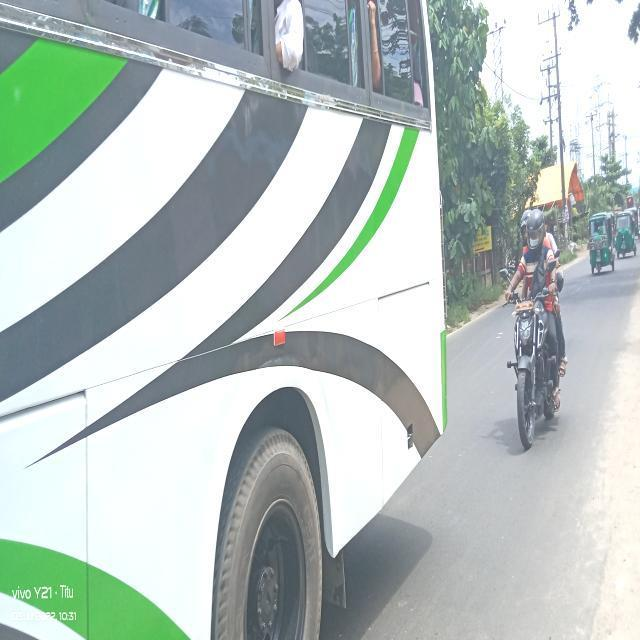Bus: (0, 0, 446, 640)
